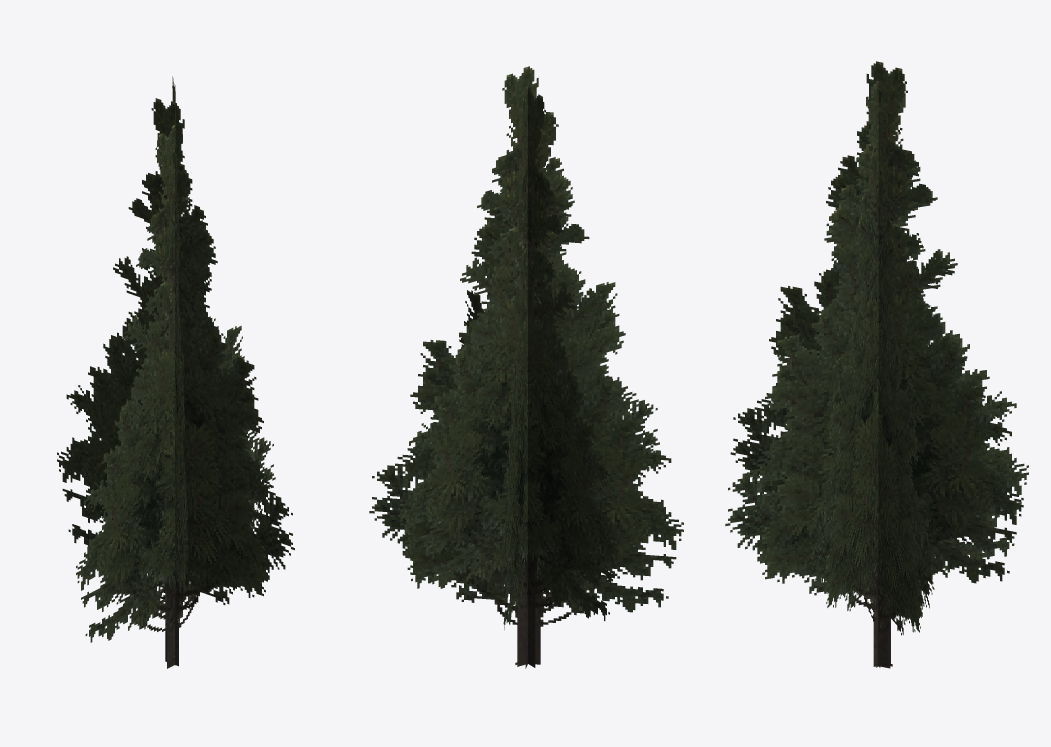
Rendered from small_tree_rt_1.glb.
The picture shows the model from 3 angles, left to right: view 1: azimuth 30°, elevation 25°; view 2: azimuth 150°, elevation 25°; view 3: azimuth 270°, elevation 25°; orthographic projection. The views are drawn at different scales.
Visible parts, largest first — view 1: small_tree_rt_1; view 2: small_tree_rt_1; view 3: small_tree_rt_1.
Boxes of the visible parts, left/top/right/bottom form: small_tree_rt_1: left=57, top=76, right=294, bottom=668; small_tree_rt_1: left=369, top=66, right=683, bottom=668; small_tree_rt_1: left=725, top=61, right=1028, bottom=668.
Size of the model in its own units: 0.5779 by 1.22 by 0.5779.
Materials: 1 (1 with a texture image).
